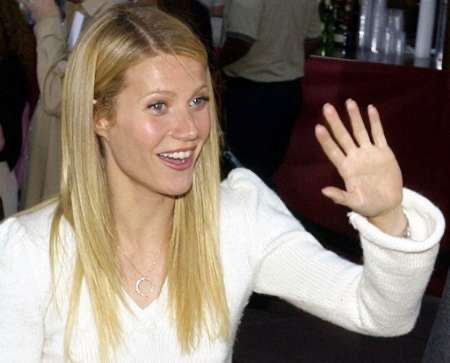Face: (107, 54, 214, 200)
